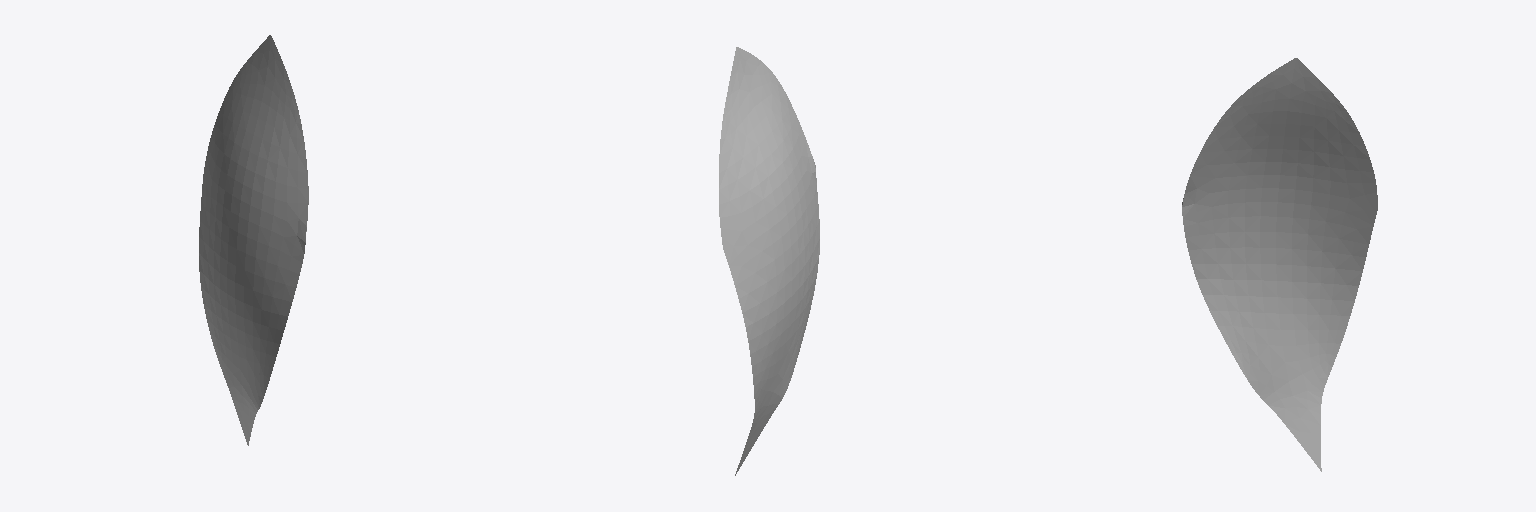
File: leaf4.obj
3 views of the same model, side by side, from view 1: azimuth 30°, elevation 25°; view 2: azimuth 150°, elevation 25°; view 3: azimuth 270°, elevation 25° (orthographic).
Parts seen in each view (by area): view 1: leaf3:Plant_Model leaf3:planarTrimmedSurface2 leaf3:polySurface1; view 2: leaf3:Plant_Model leaf3:planarTrimmedSurface2 leaf3:polySurface1; view 3: leaf3:Plant_Model leaf3:planarTrimmedSurface2 leaf3:polySurface1.
Boxes of the visible parts, x1,y1,x2,y2 form: leaf3:Plant_Model leaf3:planarTrimmedSurface2 leaf3:polySurface1: [199, 35, 308, 445]; leaf3:Plant_Model leaf3:planarTrimmedSurface2 leaf3:polySurface1: [719, 47, 819, 475]; leaf3:Plant_Model leaf3:planarTrimmedSurface2 leaf3:polySurface1: [1182, 58, 1377, 471].
Bounding box in the file's own units: 0.2391 × 2.08 × 0.8813.